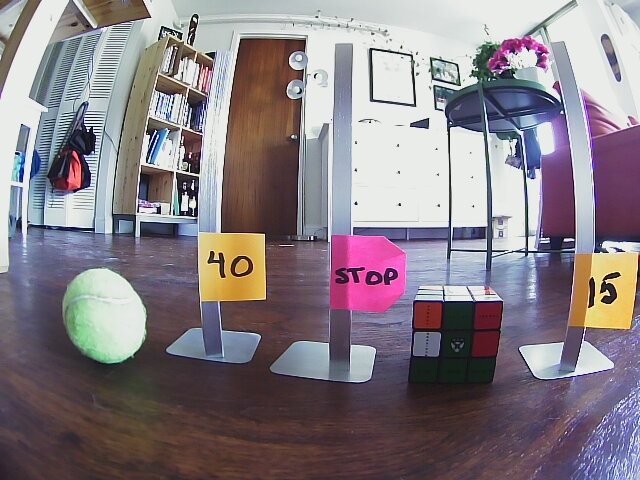15: (576, 253, 635, 325)
40: (199, 234, 266, 301)
ball: (63, 265, 146, 364)
cube: (412, 285, 498, 383)
stop: (332, 236, 402, 306)
